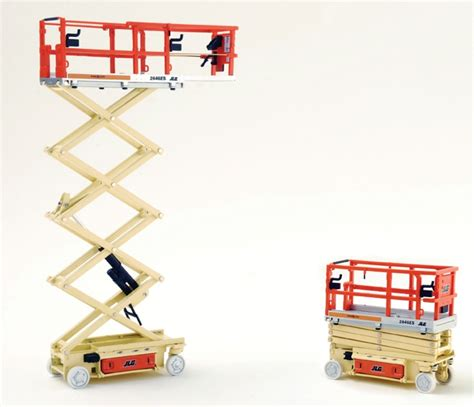Scissor Lift: (37, 15, 241, 388), (323, 258, 458, 393)
